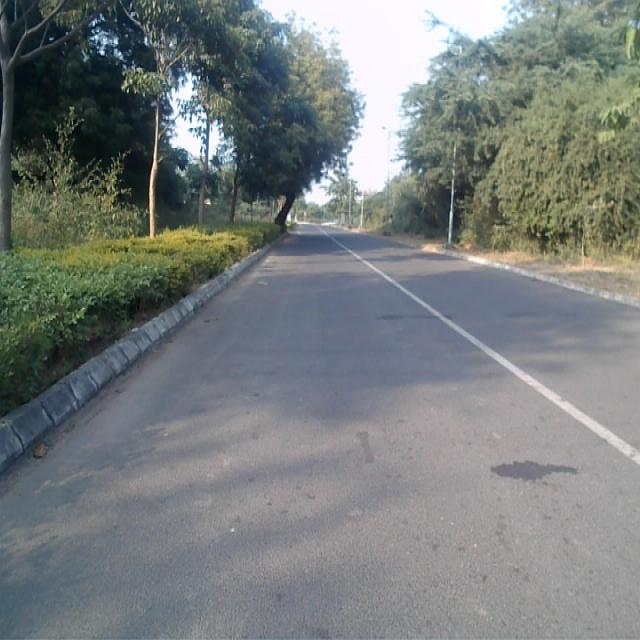lane: (0, 229, 640, 640)
